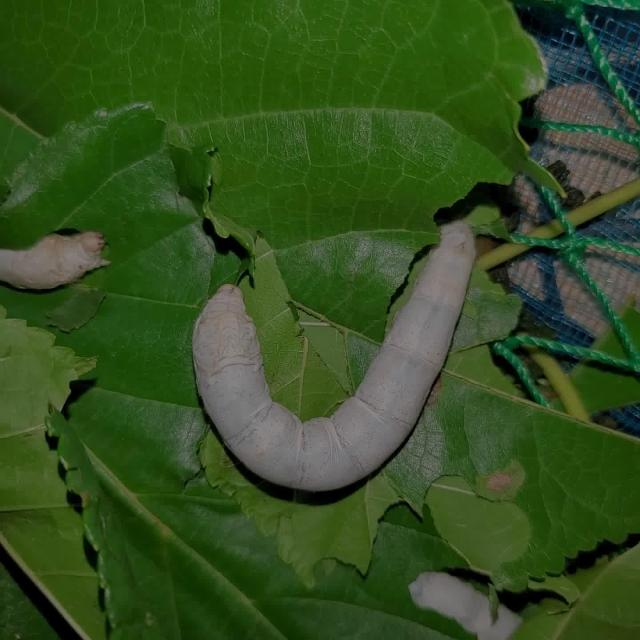Healthy: (182, 207, 486, 500)
